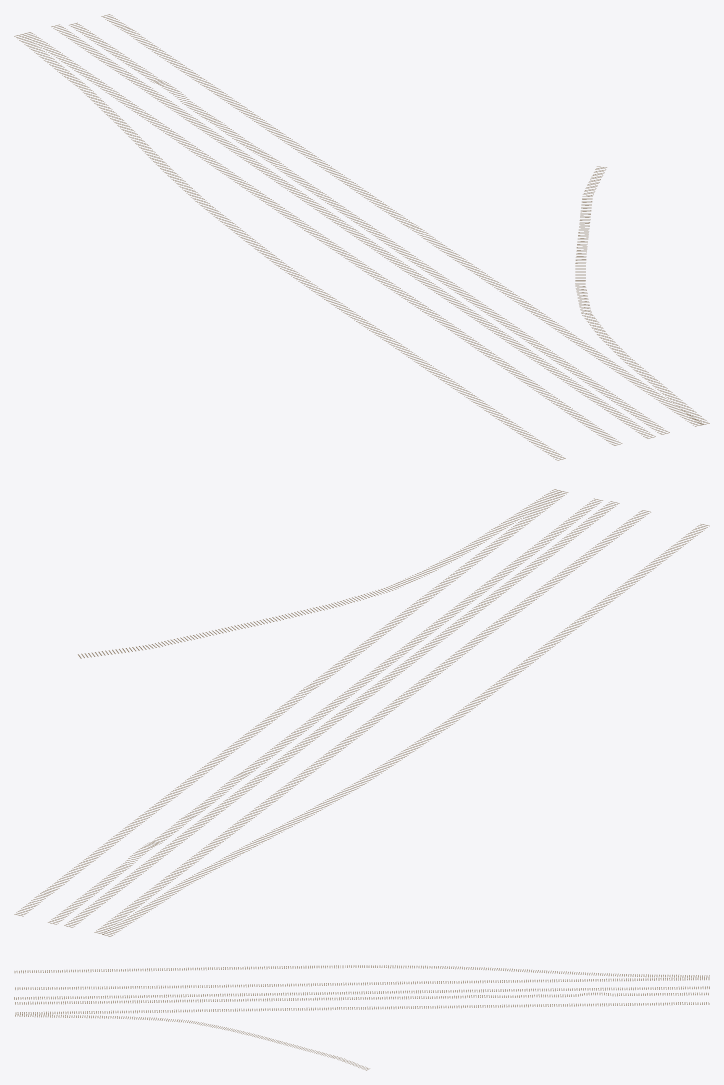
Rendered from c_1632_17827_rail_sleeper.glb.
3 renders of one model, top to bottom at view 1: azimuth 30°, elevation 25°; view 2: azimuth 150°, elevation 25°; view 3: azimuth 270°, elevation 25°, orthographic. The views are drawn at different scales.
Visible parts, largest first — view 1: geometry_0; view 2: geometry_0; view 3: geometry_0.
Part boxes in pixels (x1,y1,x2,y2): geometry_0: [14, 14, 709, 460]; geometry_0: [14, 489, 709, 936]; geometry_0: [14, 965, 709, 1070].
Bounding box in the file's own units: 91.08 × 1.17 × 256.
